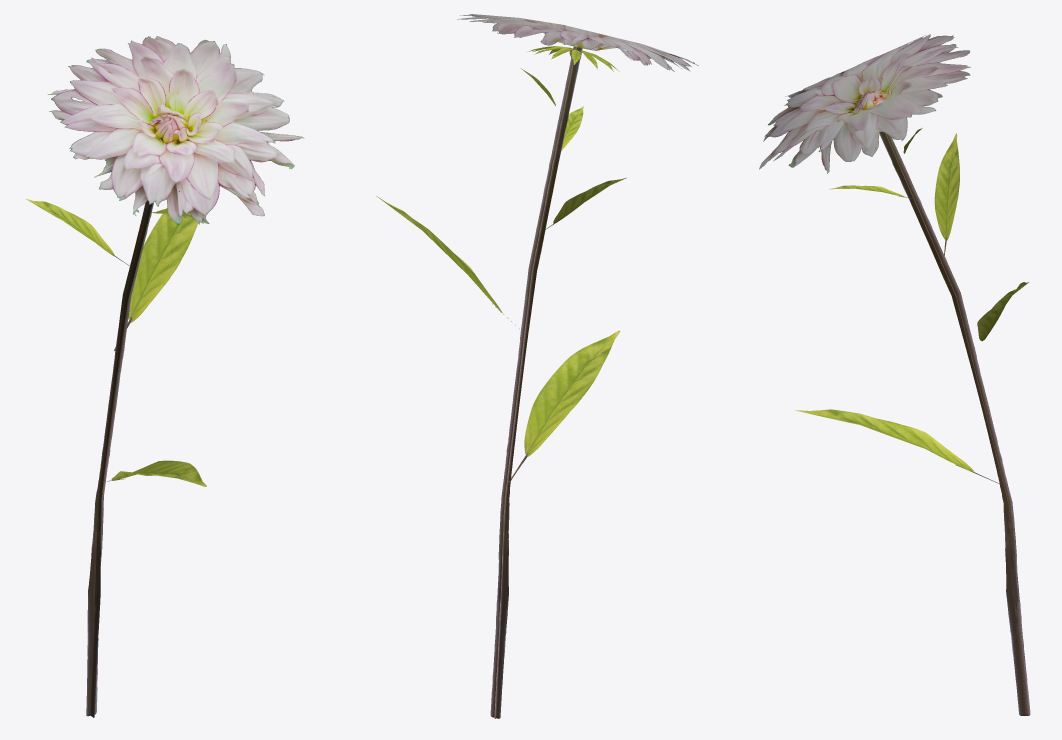
The model's file is WhiteFLower2_1.fbx.
3 views of the same model, side by side, from view 1: azimuth 30°, elevation 25°; view 2: azimuth 150°, elevation 25°; view 3: azimuth 270°, elevation 25° (orthographic). The views are drawn at different scales.
Parts seen in each view (by area): view 1: WhiteFLower2_1; view 2: WhiteFLower2_1; view 3: WhiteFLower2_1.
Boxes of the visible parts, x1,y1,x2,y2 form: WhiteFLower2_1: (26, 36, 304, 717); WhiteFLower2_1: (376, 14, 698, 718); WhiteFLower2_1: (759, 34, 1030, 715).
Bounding box in the file's own units: 0.0828 × 0.2261 × 0.0907.
